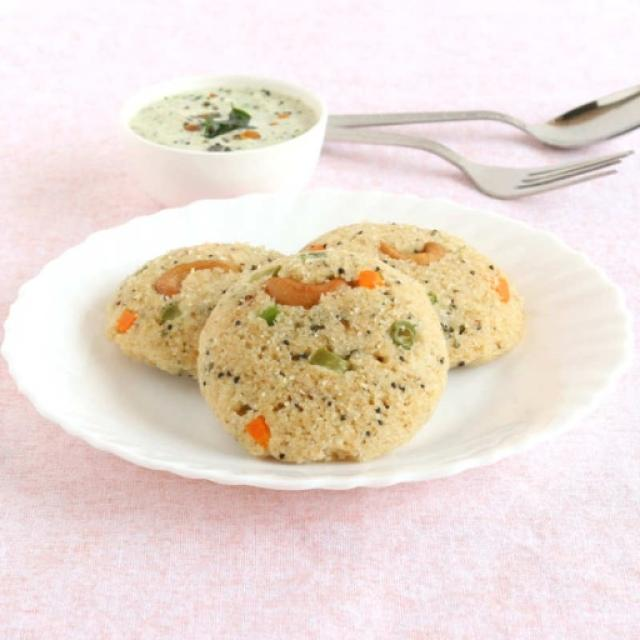IDLI: (104, 223, 529, 466)
WHITE CHUTNEY: (128, 85, 320, 151)
